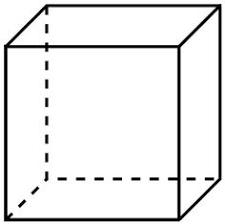cubos: (3, 2, 222, 222)
